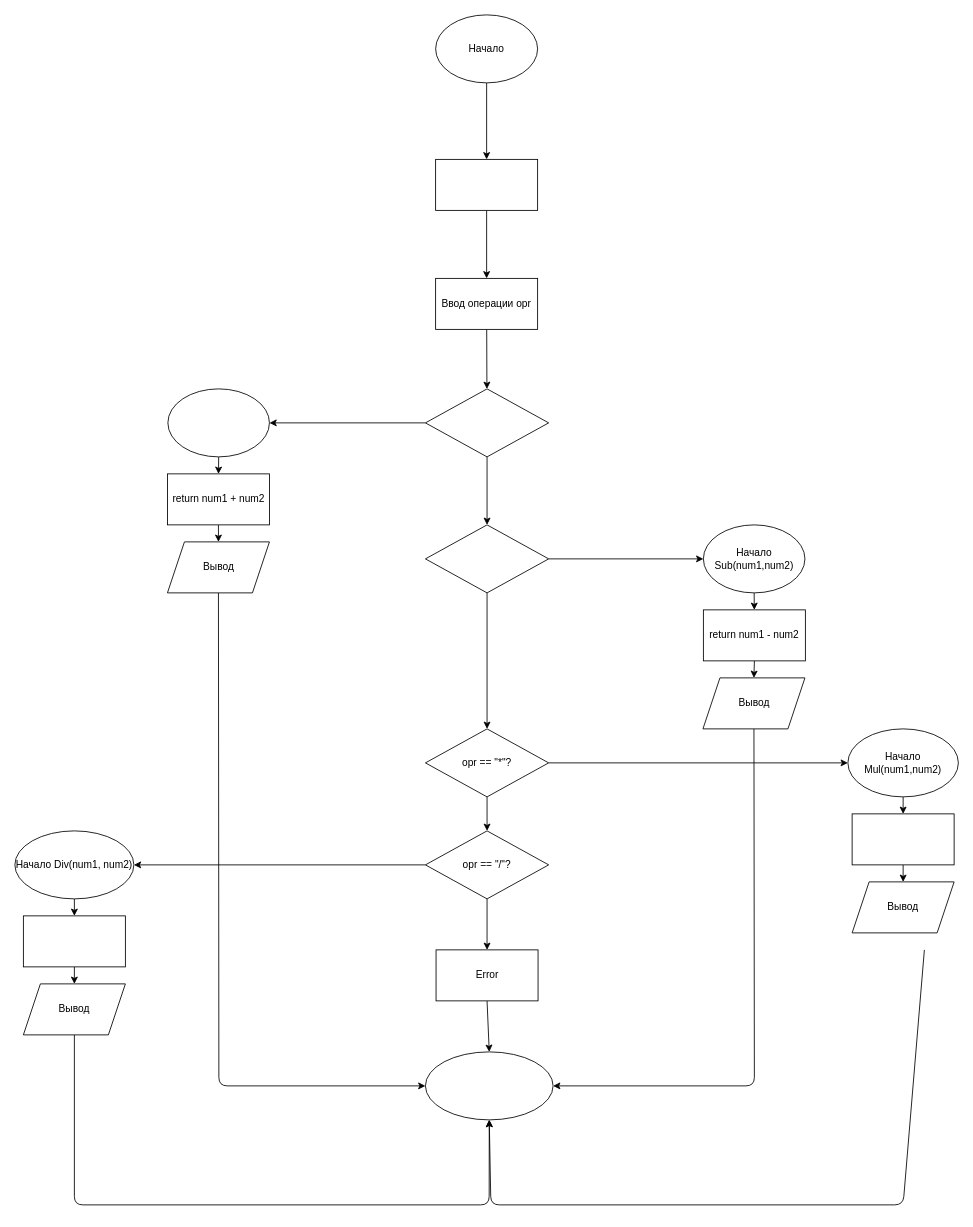
Image size: 973x1227. Some labels were removed from this diagram. The centre of each missing label's shape, as x and y in pixels:
opr == "+"?: point (487, 422)
opr == "-"?: point (487, 558)
return num1 * num2: point (902, 839)
return num1 / num2: point (74, 941)
Ввод num1 и num2: point (486, 184)
Конец: point (489, 1085)
Начало Sum(num1,num2): point (218, 422)
